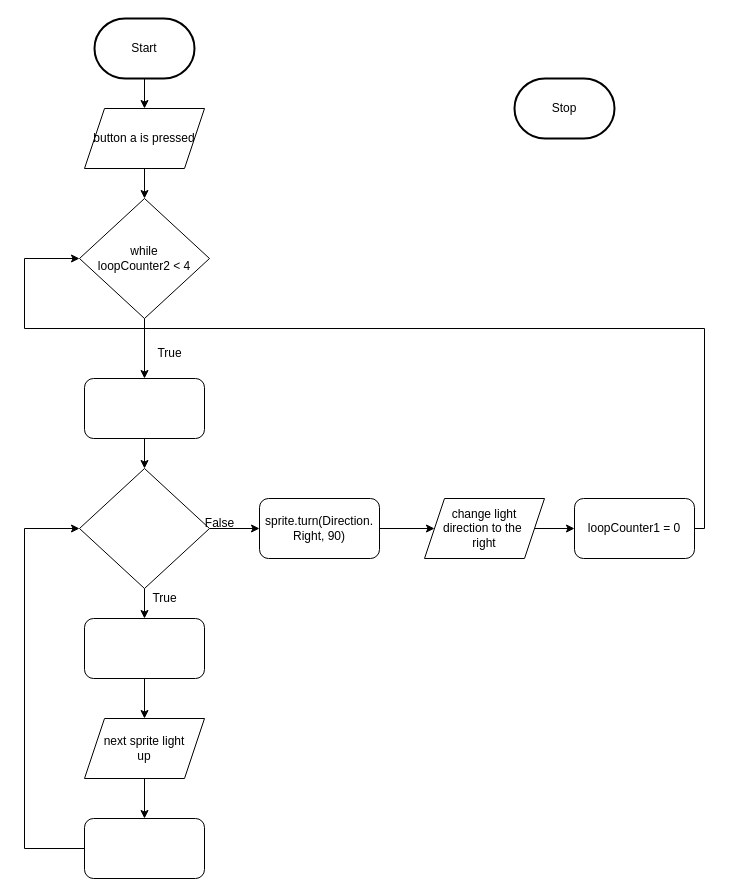
This 730x896 diagram has some shape labels left out. Here are the shapes that lost their labels. From the top down, the centre of each, then its label:
pixel 144 408: loopCounter2 = loopCounter2 + 1
pixel 144 528: while loopCounter1 <= 5
pixel 144 648: sprite.move(1)
pixel 144 848: loopCounter1 = loopCounter1 + 1
